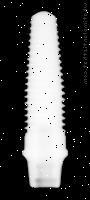Nobel Biocare: (12, 9, 70, 189)
